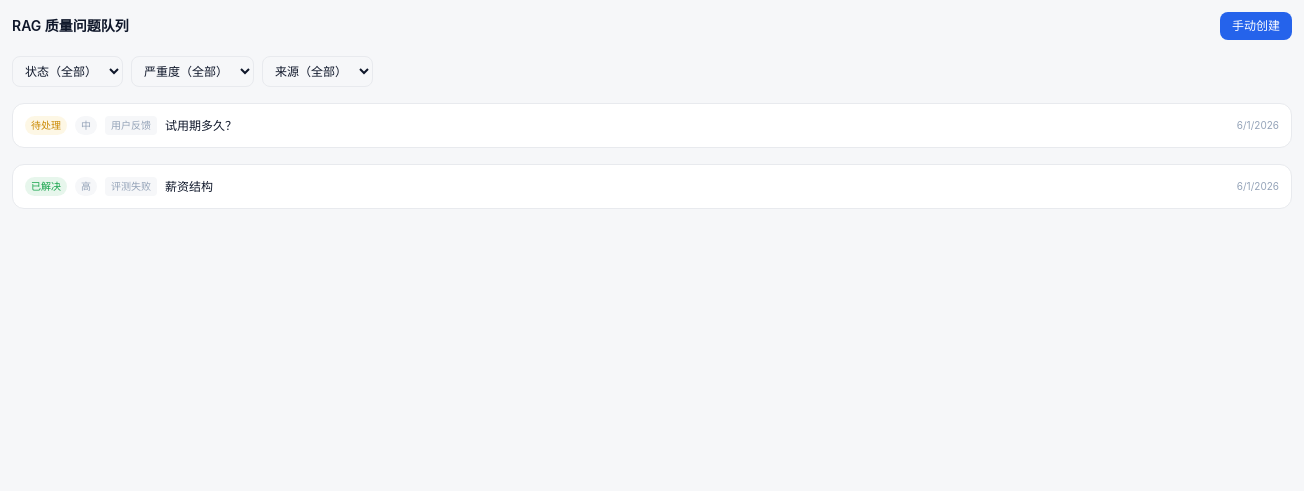
Test case: RAGQualityPanel › 展开 issue 显示 question/answer/reason
The width and height of the screenshot is (1304, 491).
Click the text "试用期多久？" at (201, 126), box [165,118,237,134]
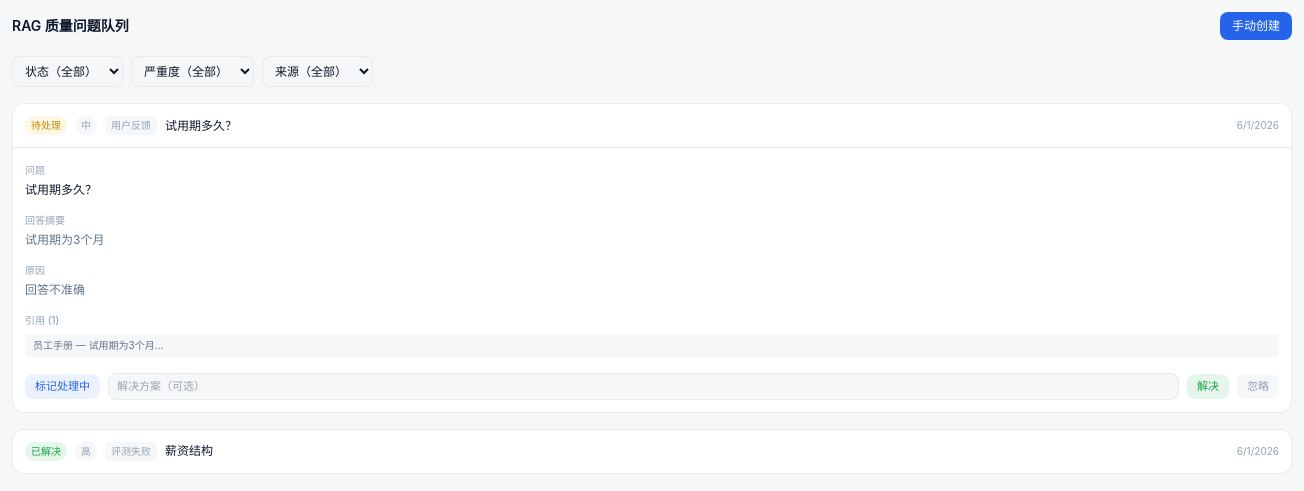
Now the text "试用期为3个月" is shown, box [25,232,104,247]
Now the text "回答不准确" is shown, box [25,282,85,297]
